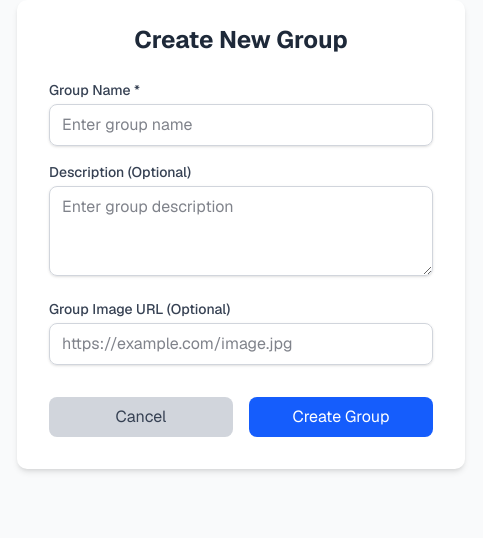
GroupCreateForm › should show validation error for empty name
The image size is (483, 538).
Click the button "Create Group": (341, 417) [249, 397, 433, 437]
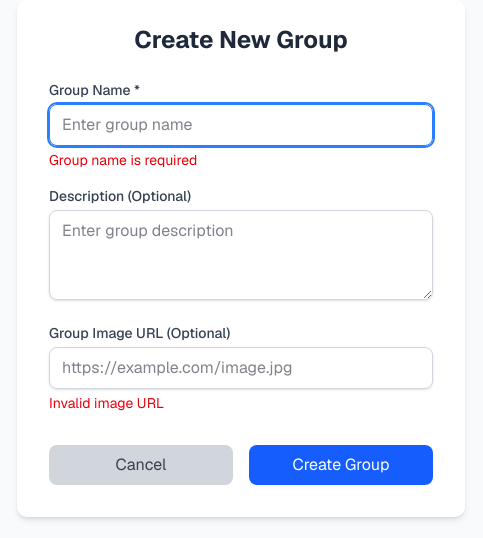
expect the text "Group name is required" is shown: met, box [49, 151, 197, 169]
